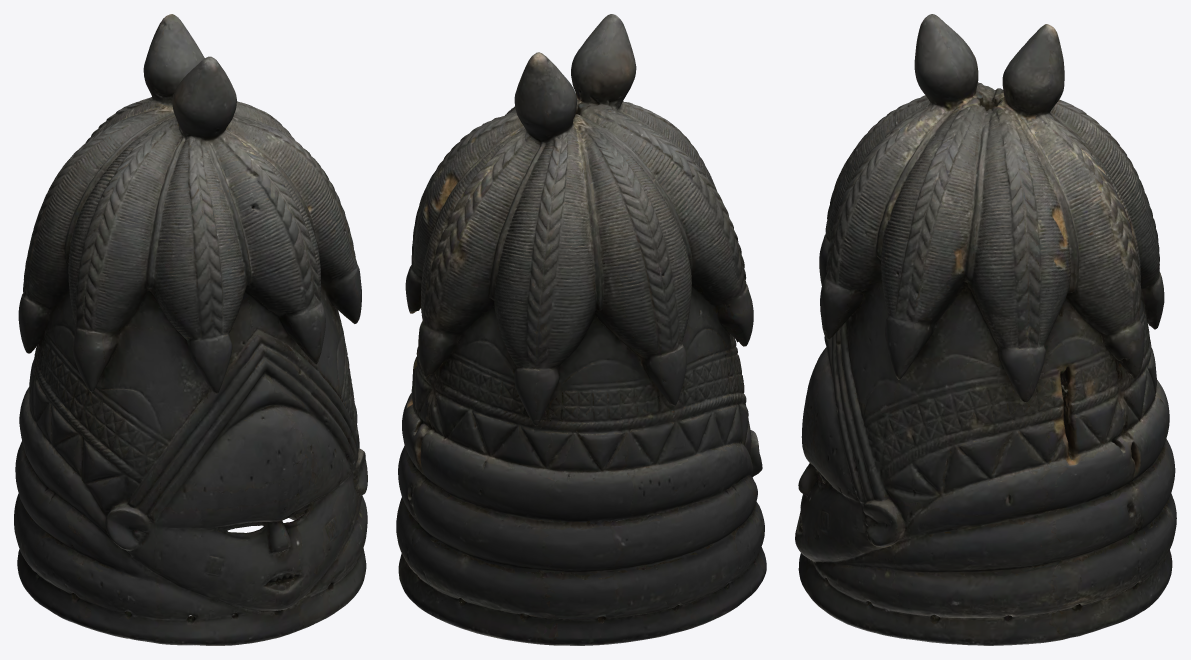
Rendered from preview.glb.
3 views of the same model, side by side, from view 1: azimuth 30°, elevation 25°; view 2: azimuth 150°, elevation 25°; view 3: azimuth 270°, elevation 25° (orthographic). The views are drawn at different scales.
Visible parts, largest first — view 1: Object_2; view 2: Object_2; view 3: Object_2.
Part boxes in pixels (x1,y1,x2,y2): Object_2: [14, 14, 367, 645]; Object_2: [396, 14, 766, 645]; Object_2: [795, 14, 1176, 645].
Size of the model in its own units: 0.2285 by 0.3754 by 0.2323.
1 material, 1 textured.
